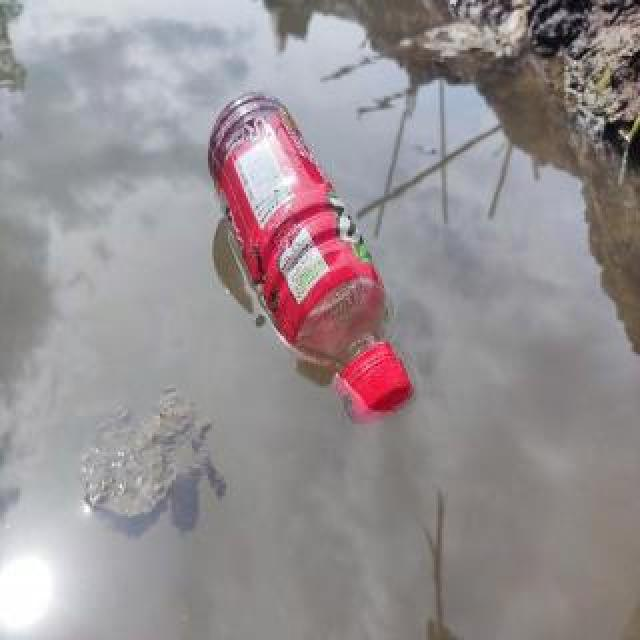Bottle: (200, 76, 450, 426)
